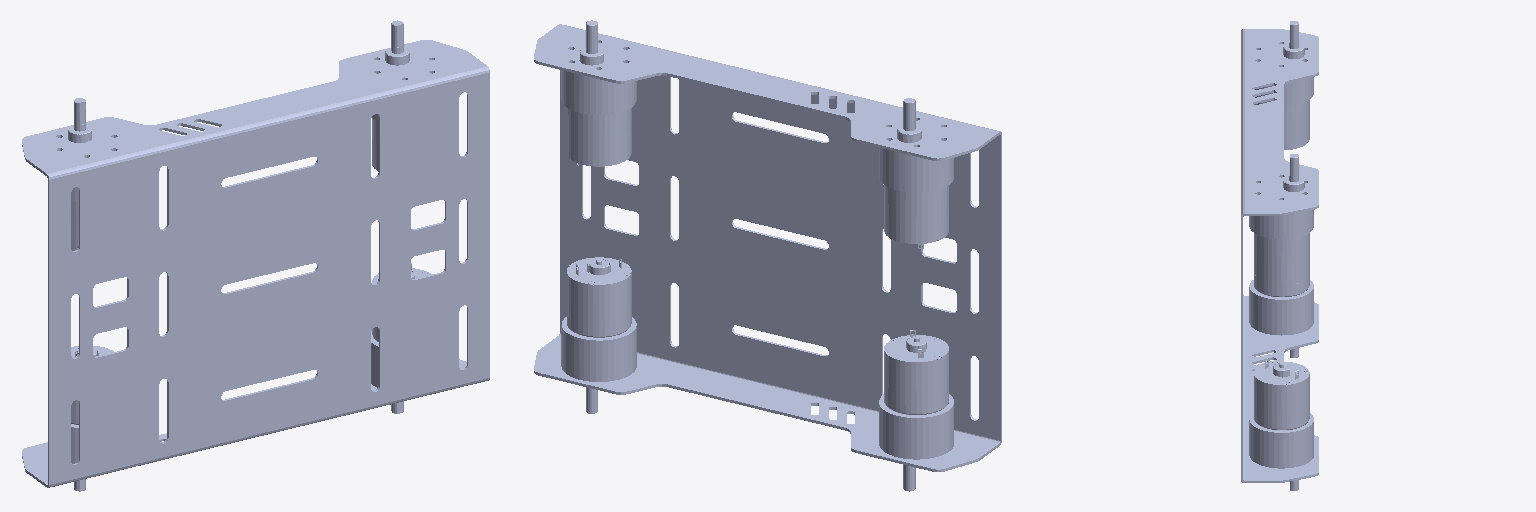
URDF robot description (small_ros):
<?xml version="1.0"?>
<!-- This URDF was automatically created by SolidWorks to URDF Exporter! Originally created by [author] ([email redacted]) 
     Commit Version: 1.6.0-4-g7f85cfe  Build Version: 1.6.7995.38578
     For more information, please see http://wiki.ros.org/sw_urdf_exporter -->
<robot
  name="small_ros">
  <link
    name="base_link">
    <inertial>
      <origin
        xyz="0.750780574277987 0.954341735128034 1.34935529438364"
        rpy="0 0 0" />
      <mass
        value="0.710093257388919" />
      <inertia
        ixx="0.000529443145253426"
        ixy="1.62020636192378E-10"
        ixz="1.49082100882583E-07"
        iyy="0.000714756352485229"
        iyz="-5.01072927860122E-19"
        izz="0.000954719018352894" />
    </inertial>
    <visual>
      <origin
        xyz="0 0 0"
        rpy="0 0 0" />
      <geometry>
        <mesh
          filename="package://small_ros/meshes/base_link_org.STL" />
      </geometry>
      <material
        name="">
        <color
          rgba="0.792156862745098 0.819607843137255 0.933333333333333 1" />
      </material>
    </visual>
    <collision>
      <origin
        xyz="0 0 0"
        rpy="0 0 0" />
      <geometry>
        <mesh
          filename="package://small_ros/meshes/base_link_org.STL" />
      </geometry>
    </collision>
  </link>
  <link
    name="Left FR Wheel">
    <inertial>
      <origin
        xyz="1.11022302462516E-16 -0.0124778615939652 0"
        rpy="0 0 0" />
      <mass
        value="0.0957871600079529" />
      <inertia
        ixx="3.44561506442705E-05"
        ixy="6.54482645615832E-23"
        ixz="8.78851612738887E-21"
        iyy="5.89274974298778E-05"
        iyz="-9.85136886421259E-20"
        izz="3.44561506442705E-05" />
    </inertial>
    <visual>
      <origin
        xyz="0 0 0"
        rpy="0 0 0" />
      <geometry>
        <mesh
          filename="package://small_ros/meshes/Left_FR_Wheel.STL" />
      </geometry>
      <material
        name="">
        <color
          rgba="0.792156862745098 0.819607843137255 0.933333333333333 1" />
      </material>
    </visual>
    <collision>
      <origin
        xyz="0 0 0"
        rpy="0 0 0" />
      <geometry>
        <mesh
          filename="package://small_ros/meshes/Left_FR_Wheel.STL" />
      </geometry>
    </collision>
  </link>
  <joint
    name="Left FR Wheel"
    type="continuous">
    <origin
      xyz="0.66701 -1.3442 0.84361"
      rpy="-1.5708 0 3.1416" />
    <parent
      link="base_link" />
    <child
      link="Left FR Wheel" />
    <axis
      xyz="0 1 0" />
    <limit
      effort="10"
      velocity="10" />
    <dynamics
      damping="0.1"
      friction="0.1" />
  </joint>
  <link
    name="Right FR Wheel">
    <inertial>
      <origin
        xyz="0 0.0124778615939651 -2.22044604925031E-16"
        rpy="0 0 0" />
      <mass
        value="0.0957871600079525" />
      <inertia
        ixx="3.44561506442703E-05"
        ixy="6.64305817647008E-22"
        ixz="2.01883364354439E-21"
        iyy="5.89274974298776E-05"
        iyz="-9.98656575344273E-20"
        izz="3.44561506442703E-05" />
    </inertial>
    <visual>
      <origin
        xyz="0 0 0"
        rpy="0 0 0" />
      <geometry>
        <mesh
          filename="package://small_ros/meshes/Right_FR_Wheel.STL" />
      </geometry>
      <material
        name="">
        <color
          rgba="0.792156862745098 0.819607843137255 0.933333333333333 1" />
      </material>
    </visual>
    <collision>
      <origin
        xyz="0 0 0"
        rpy="0 0 0" />
      <geometry>
        <mesh
          filename="package://small_ros/meshes/Right_FR_Wheel.STL" />
      </geometry>
    </collision>
  </link>
  <joint
    name="Right FR Wheel"
    type="continuous">
    <origin
      xyz="0.66701 -1.3442 1.0732"
      rpy="-1.5708 0 3.1416" />
    <parent
      link="base_link" />
    <child
      link="Right FR Wheel" />
    <axis
      xyz="0 -1 0" />
    <limit
      effort="10"
      velocity="10" />
    <dynamics
      damping="0.1"
      friction="0.1" />
  </joint>
  <link
    name="Left BK Wheel">
    <inertial>
      <origin
        xyz="0 -0.0124778615939652 0"
        rpy="0 0 0" />
      <mass
        value="0.0957871600079529" />
      <inertia
        ixx="3.44561506442705E-05"
        ixy="-2.13214112188169E-21"
        ixz="1.55731613714739E-21"
        iyy="5.89274974298778E-05"
        iyz="-9.83429792457241E-20"
        izz="3.44561506442705E-05" />
    </inertial>
    <visual>
      <origin
        xyz="0 0 0"
        rpy="0 0 0" />
      <geometry>
        <mesh
          filename="package://small_ros/meshes/Left_BK_Wheel.STL" />
      </geometry>
      <material
        name="">
        <color
          rgba="0.792156862745098 0.819607843137255 0.933333333333333 1" />
      </material>
    </visual>
    <collision>
      <origin
        xyz="0 0 0"
        rpy="0 0 0" />
      <geometry>
        <mesh
          filename="package://small_ros/meshes/Left_BK_Wheel.STL" />
      </geometry>
    </collision>
  </link>
  <joint
    name="Left BK Wheel"
    type="continuous">
    <origin
      xyz="0.84701 -1.3442 0.84361"
      rpy="-1.5708 0 3.1416" />
    <parent
      link="base_link" />
    <child
      link="Left BK Wheel" />
    <axis
      xyz="0 1 0" />
    <limit
      effort="10"
      velocity="10" />
    <dynamics
      damping="0.1"
      friction="0.1" />
  </joint>
  <link
    name="Right BK Wheel">
    <inertial>
      <origin
        xyz="-1.11022302462516E-16 0.0124778615939654 0"
        rpy="0 0 0" />
      <mass
        value="0.0957871600079525" />
      <inertia
        ixx="3.44561506442703E-05"
        ixy="-1.40847515961997E-23"
        ixz="-9.32299681581854E-37"
        iyy="5.89274974298776E-05"
        iyz="-9.90908636538242E-20"
        izz="3.44561506442703E-05" />
    </inertial>
    <visual>
      <origin
        xyz="0 0 0"
        rpy="0 0 0" />
      <geometry>
        <mesh
          filename="package://small_ros/meshes/Right_BK_Wheel.STL" />
      </geometry>
      <material
        name="">
        <color
          rgba="0.792156862745098 0.819607843137255 0.933333333333333 1" />
      </material>
    </visual>
    <collision>
      <origin
        xyz="0 0 0"
        rpy="0 0 0" />
      <geometry>
        <mesh
          filename="package://small_ros/meshes/Right_BK_Wheel.STL" />
      </geometry>
    </collision>
  </link>
  <joint
    name="Right BK Wheel"
    type="continuous">
    <origin
      xyz="0.84701 -1.3442 1.0732"
      rpy="-1.5708 0 3.1416" />
    <parent
      link="base_link" />
    <child
      link="Right BK Wheel" />
    <axis
      xyz="0 -1 0" />
    <limit
      effort="10"
      velocity="10" />
    <dynamics
      damping="0.1"
      friction="0.1" />
  </joint>

  <!-- ros2_control -->
  <ros2_control name="DiffBotSystem" type="system">
    <hardware>
      <plugin>diffbot_hardware/DiffBotSystemHardware</plugin>
      <param name="device">/dev/ttyUSB0</param>
      <param name="baud_rate">115200</param>
    </hardware>

    <joint name="Left FR Wheel JOINT">
      <command_interface name="velocity"/>
      <state_interface name="position"/>
      <state_interface name="velocity"/>
    </joint>
    <joint name="Left BK Wheel JOINT">
      <command_interface name="velocity"/>
      <state_interface name="position"/>
      <state_interface name="velocity"/>
    </joint>
    <joint name="Right FR Wheel JOINT">
      <command_interface name="velocity"/>
      <state_interface name="position"/>
      <state_interface name="velocity"/>
    </joint>
    <joint name="Right BK Wheel JOINT">
      <command_interface name="velocity"/>
      <state_interface name="position"/>
      <state_interface name="velocity"/>
    </joint>
  </ros2_control>
</robot>

--- What the picture shows (computed from the rendered views, not written in the file) ---
The picture shows the robot from 3 angles, left to right: view 1: azimuth 30°, elevation 25°; view 2: azimuth 150°, elevation 25°; view 3: azimuth 270°, elevation 25°; orthographic projection.
Model small_ros with 5 links and 4 joints (4 continuous), rooted at base_link, posed all joints at 0.
Links seen in each view (by area): view 1: base_link; view 2: base_link; view 3: base_link.
Boxes of the visible links, x1,y1,x2,y2 form: base_link: [22, 20, 489, 491]; base_link: [534, 20, 1001, 491]; base_link: [1241, 21, 1318, 490].
Size in the robot's own frame: 0.25 by 0.045 by 0.2106 metres.
Meshes: 5 distinct files referenced, 1 mesh visuals loaded (1 binary STL); not drawn: 4 (reference not matched to a file when rendering).